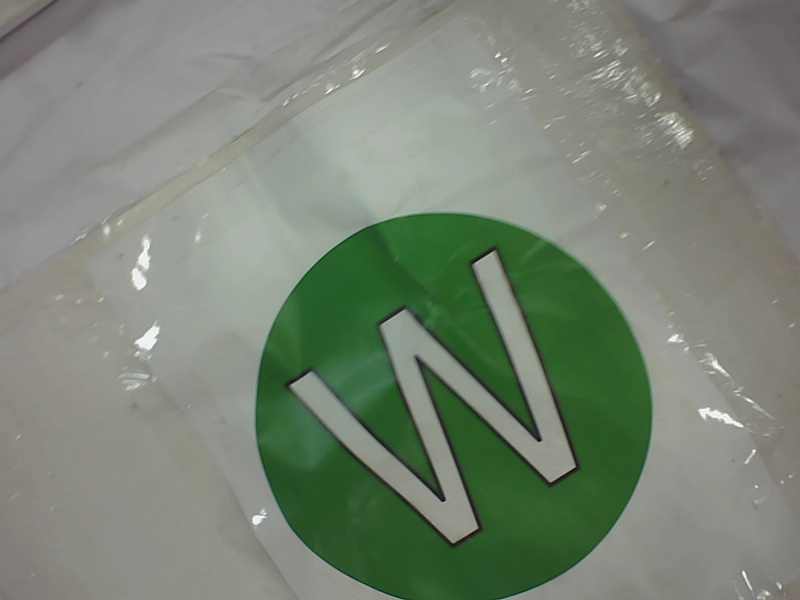areaB: (256, 203, 654, 594)
